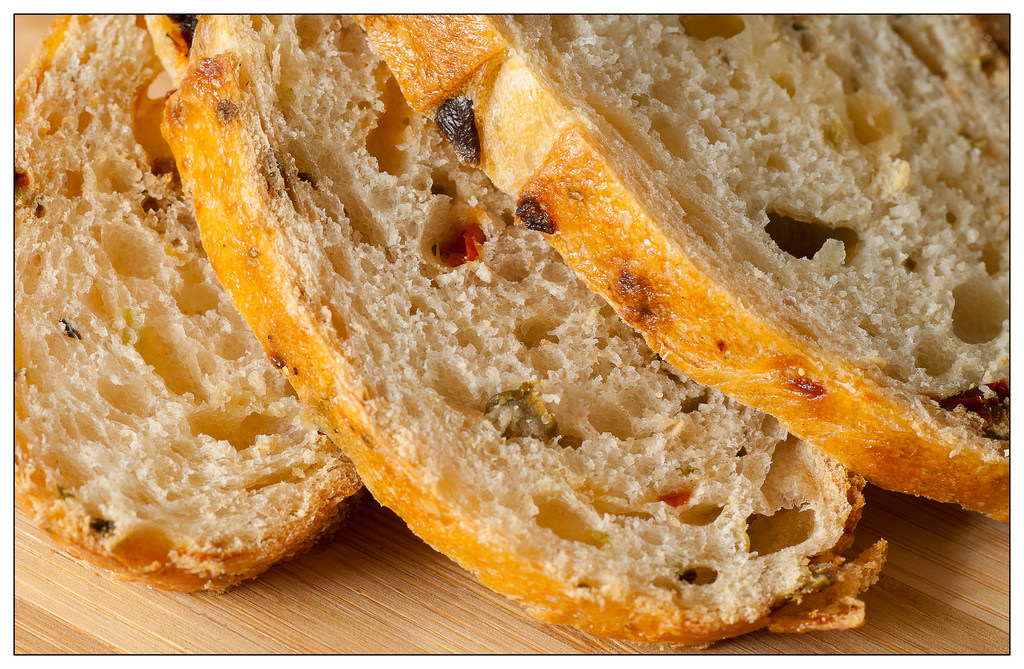slice of bread: (60, 36, 1001, 623)
